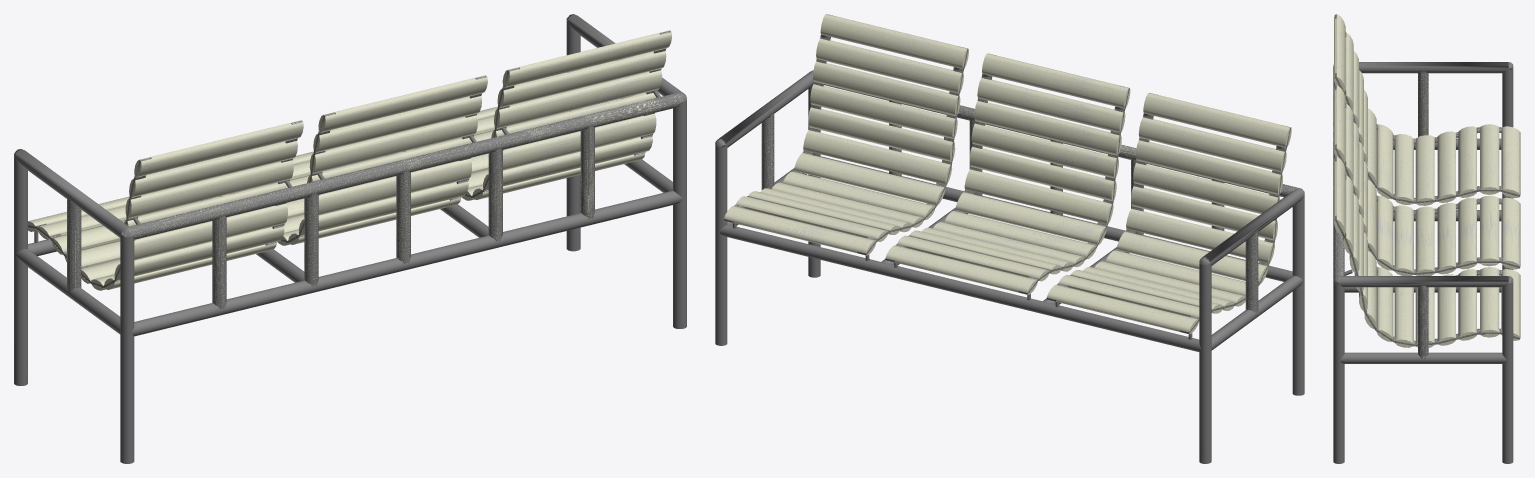
3 renders of one model, left to right at view 1: azimuth 30°, elevation 25°; view 2: azimuth 150°, elevation 25°; view 3: azimuth 270°, elevation 25°, orthographic. The views are drawn at different scales.
Parts seen in each view (by area): view 1: mesh8_mesh8-geometry, mesh4_mesh4-geometry, mesh1_mesh1-geometry, mesh74_mesh74-geometry, mesh5_mesh5-geometry, mesh73_mesh73-geometry, mesh9_mesh9-geometry, mesh3_mesh3-geometry; view 2: mesh8_mesh8-geometry, mesh4_mesh4-geometry, mesh1_mesh1-geometry, mesh9_mesh9-geometry, mesh5_mesh5-geometry, mesh73_mesh73-geometry, mesh3_mesh3-geometry, mesh74_mesh74-geometry; view 3: mesh8_mesh8-geometry, mesh1_mesh1-geometry, mesh4_mesh4-geometry, mesh9_mesh9-geometry, mesh3_mesh3-geometry, mesh73_mesh73-geometry, mesh5_mesh5-geometry, mesh74_mesh74-geometry.
Boxes of the visible parts, x1,y1,x2,y2 form: mesh8_mesh8-geometry: (28,30,671,290); mesh4_mesh4-geometry: (16,159,681,336); mesh1_mesh1-geometry: (14,23,686,463); mesh74_mesh74-geometry: (128,93,683,239); mesh5_mesh5-geometry: (67,95,633,309); mesh73_mesh73-geometry: (14,149,130,237); mesh9_mesh9-geometry: (28,30,670,288); mesh3_mesh3-geometry: (566,14,686,101); mesh8_mesh8-geometry: (724,14,1291,334); mesh4_mesh4-geometry: (719,156,1302,351); mesh1_mesh1-geometry: (715,86,1304,463); mesh9_mesh9-geometry: (724,14,1290,333); mesh5_mesh5-geometry: (761,100,1258,312); mesh73_mesh73-geometry: (1199,188,1304,265); mesh3_mesh3-geometry: (715,70,813,147); mesh74_mesh74-geometry: (824,84,1299,197); mesh8_mesh8-geometry: (1334,14,1520,347); mesh1_mesh1-geometry: (1333,68,1513,463); mesh4_mesh4-geometry: (1340,138,1513,363); mesh9_mesh9-geometry: (1335,14,1520,346); mesh3_mesh3-geometry: (1333,276,1513,287); mesh73_mesh73-geometry: (1359,62,1513,73); mesh5_mesh5-geometry: (1418,71,1428,358); mesh74_mesh74-geometry: (1333,65,1344,280).
Bounding box in the file's own units: 0.8489 × 0.4303 × 0.3068.
